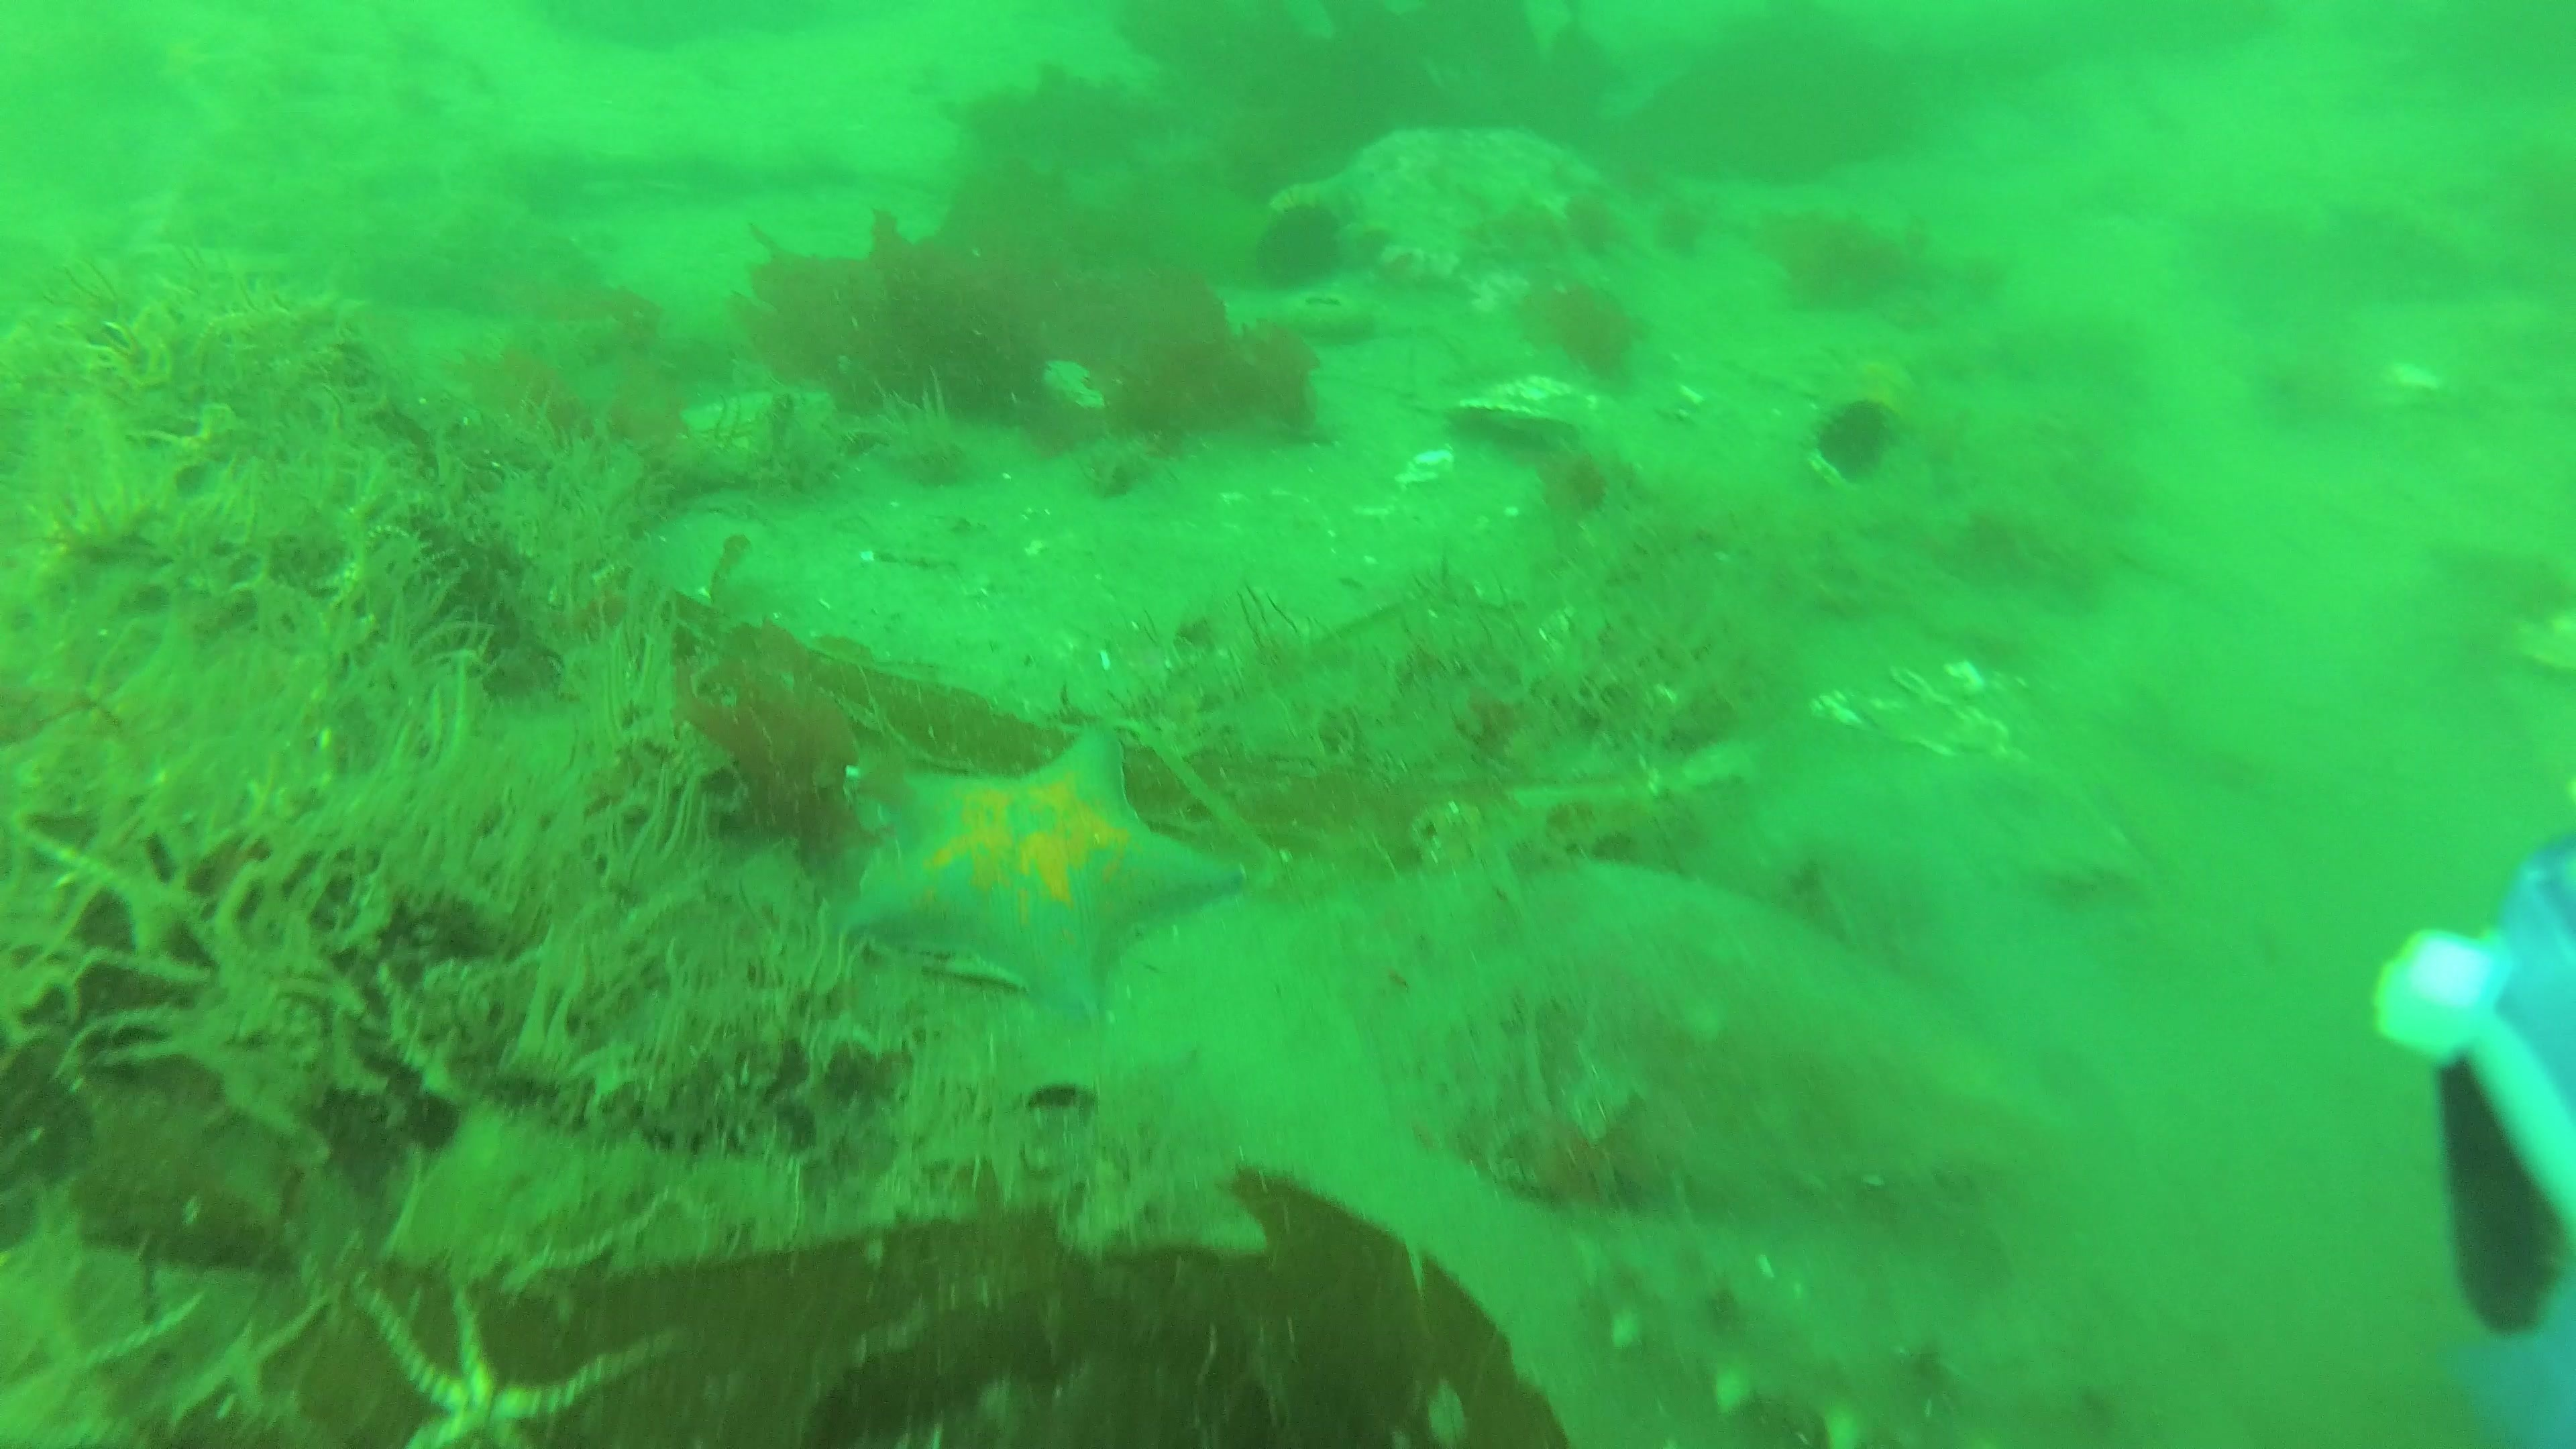echinus: (1253, 195, 1352, 294), (1813, 393, 1902, 487)
starfish: (835, 717, 1240, 1040)
